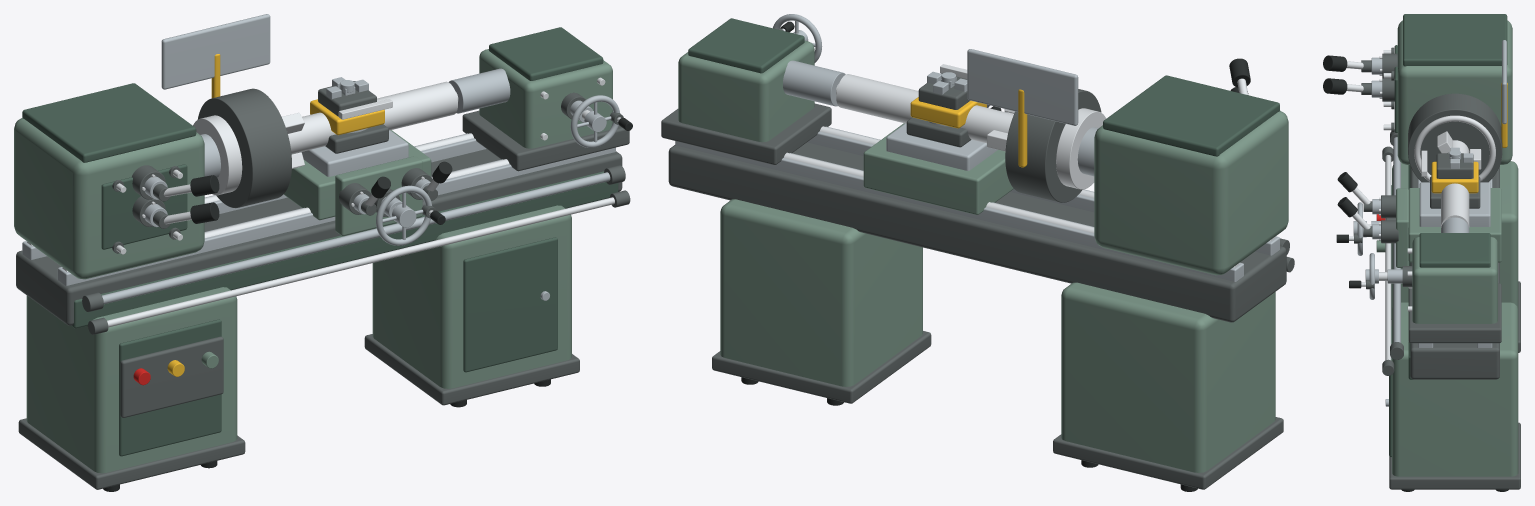
File: Stanok.fbx
3 renders of one model, left to right at view 1: azimuth 30°, elevation 25°; view 2: azimuth 150°, elevation 25°; view 3: azimuth 270°, elevation 25°, orthographic. The views are drawn at different scales.
Parts seen in each view (by area): view 1: Левая тумба, Правая тумба, Корпус передней бабки, Корпус станины, Дверь шкафа.001, Передняя стенка станины, Крышка передней бабки, Корпус задней бабки, Корпус трёхкулачкового патрона, Дверь шкафа, Защитный экран патрона, Панель управления (+21 smaller); view 2: Левая тумба, Правая тумба, Корпус станины, Корпус передней бабки, Корпус задней бабки, Крышка передней бабки, Каретка суппорта, Защитный экран патрона, Плоская направляющая.001, Корпус трёхкулачкового патрона, Основание задней бабки, Обрабатываемая заготовка (+13 smaller); view 3: Правая тумба, Корпус передней бабки, Корпус задней бабки, Крышка передней бабки, Корпус трёхкулачкового патрона, Корпус станины, Левая тумба, Крышка задней бабки, Основание задней бабки, Нижнее основание тумбы.001, Каретка суппорта, Поперечные салазки (+25 smaller).
Part boxes in pixels (x1,y1,x2,y2): Левая тумба: (26, 287, 237, 473); Правая тумба: (372, 205, 571, 388); Корпус передней бабки: (14, 117, 204, 279); Корпус станины: (16, 149, 622, 325); Дверь шкафа.001: (463, 237, 557, 372); Передняя стенка станины: (71, 171, 618, 328); Крышка передней бабки: (22, 83, 196, 162); Корпус задней бабки: (479, 49, 612, 148); Корпус трёхкулачкового патрона: (197, 88, 291, 208); Дверь шкафа: (119, 319, 221, 456); Защитный экран патрона: (161, 14, 270, 89); Панель управления: (120, 336, 223, 417); Левая тумба: (1061, 282, 1275, 472); Правая тумба: (720, 199, 922, 386); Корпус станины: (668, 142, 1286, 322); Корпус передней бабки: (1094, 110, 1288, 275); Корпус задней бабки: (678, 40, 814, 142); Крышка передней бабки: (1103, 75, 1279, 156); Каретка суппорта: (863, 123, 1013, 214); Защитный экран патрона: (967, 49, 1078, 125); Плоская направляющая.001: (675, 141, 1243, 281); Корпус трёхкулачкового патрона: (1005, 89, 1101, 202); Основание задней бабки: (661, 103, 831, 164); Обрабатываемая заготовка: (836, 74, 1013, 143); Правая тумба: (1392, 302, 1518, 476); Корпус передней бабки: (1397, 20, 1512, 164); Корпус задней бабки: (1412, 236, 1497, 323); Крышка передней бабки: (1403, 14, 1507, 66); Корпус трёхкулачкового патрона: (1408, 93, 1502, 182); Корпус станины: (1410, 166, 1499, 379); Левая тумба: (1392, 161, 1518, 309); Крышка задней бабки: (1419, 233, 1490, 267); Основание задней бабки: (1408, 283, 1501, 343); Нижнее основание тумбы.001: (1389, 422, 1520, 489); Каретка суппорта: (1408, 188, 1501, 262); Поперечные салазки: (1419, 182, 1490, 226).
Size of the model in its own units: 495 by 320 by 180.
